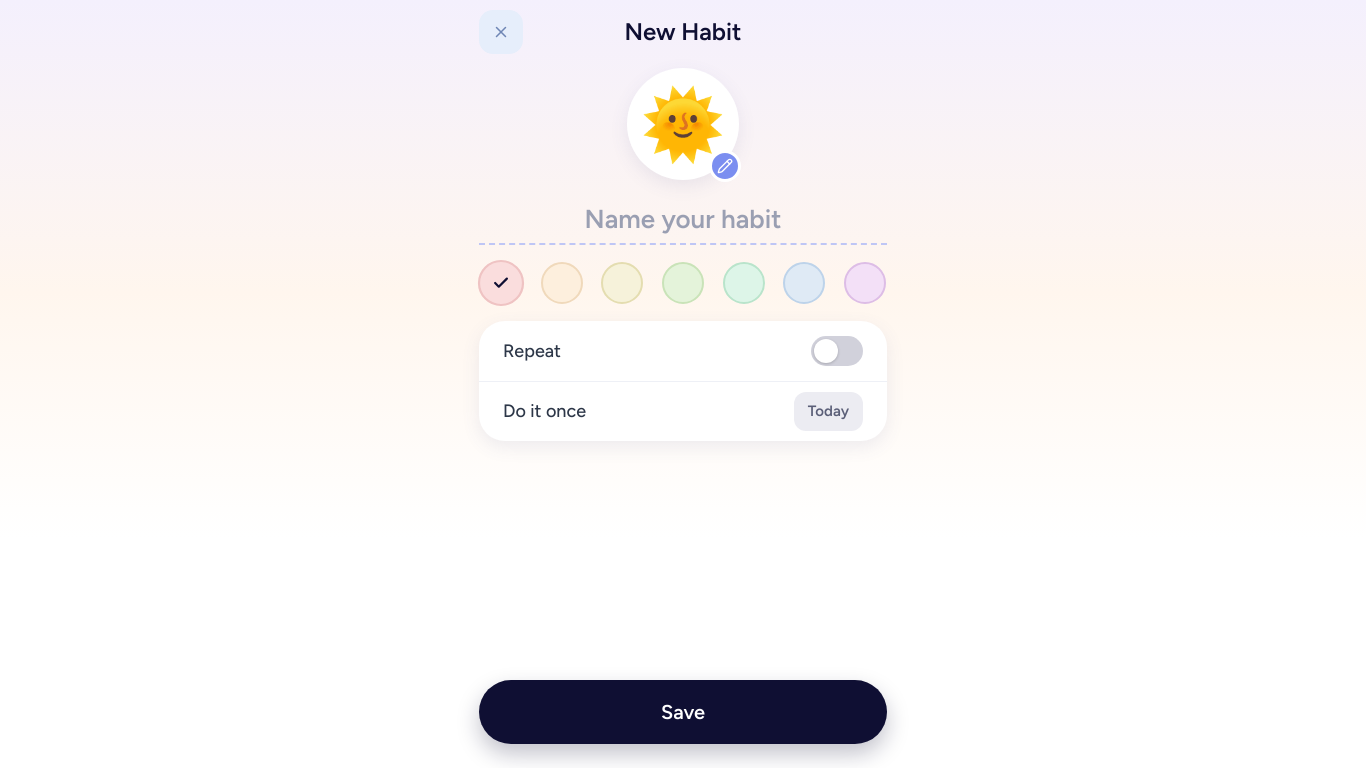
Test: NewHabitForm › US01-AC3 rejects an empty name and clears the error when typing
Click the field labelled "Habit name" at (683, 220), box [479, 196, 887, 245]
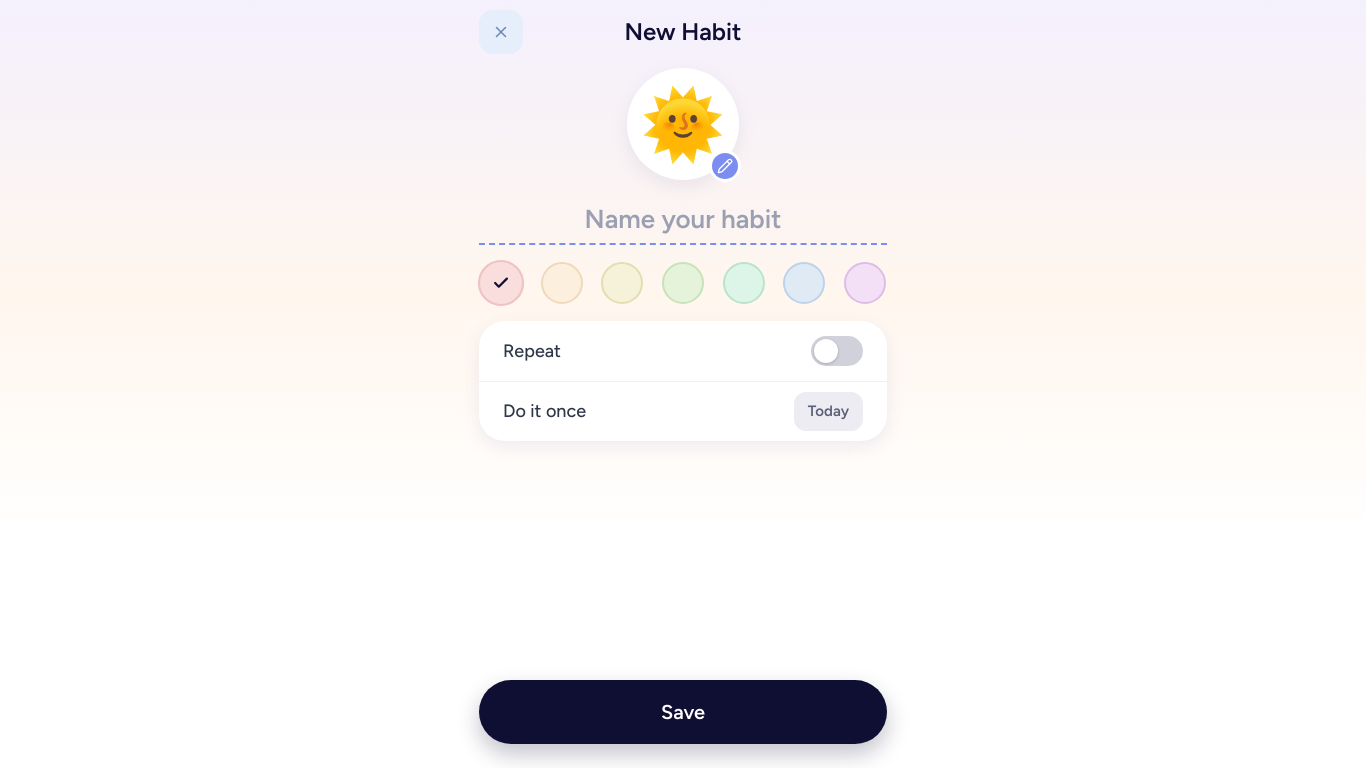
Press Enter
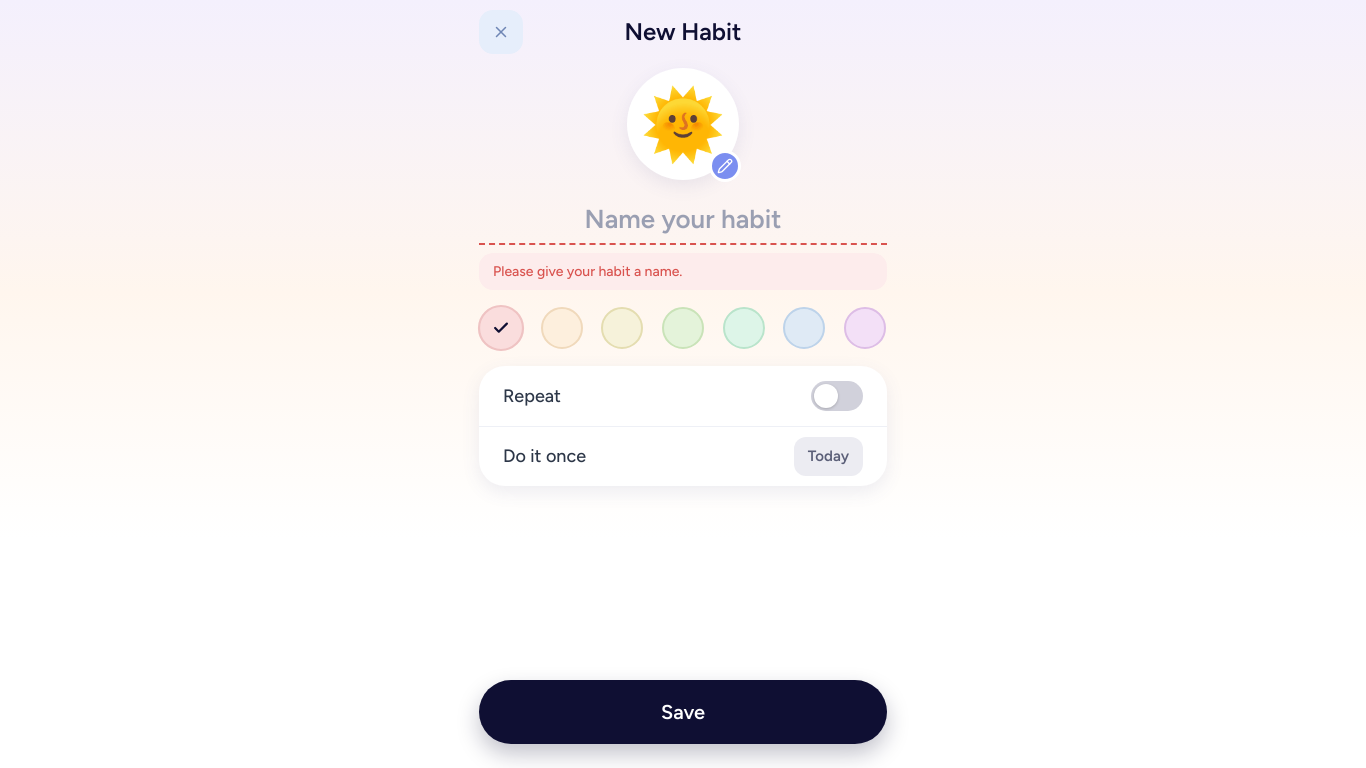
Now the text "Please give your habit a name." is shown, box [479, 253, 887, 290]
Type "W" into the field labelled "Habit name" at (683, 220), box [479, 196, 887, 245]
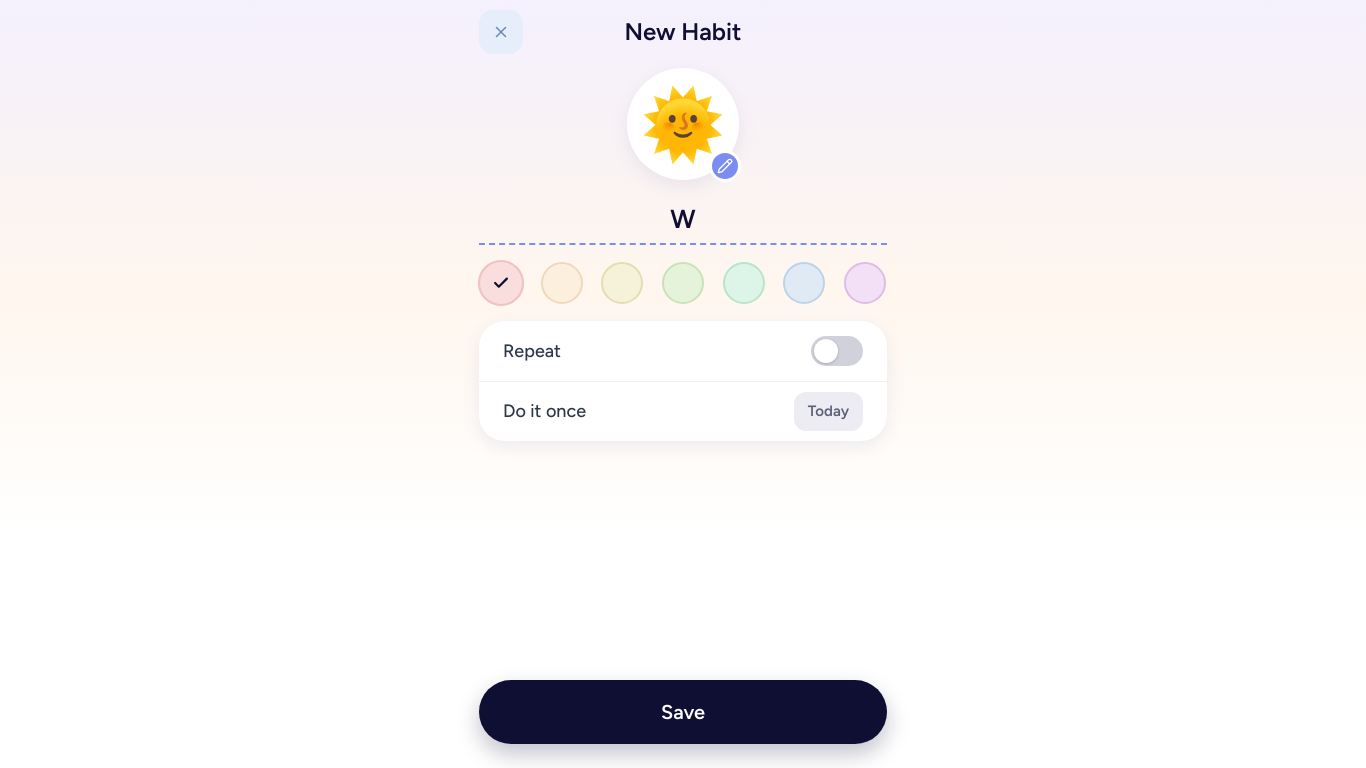
Now the text "Please give your habit a name." is gone
